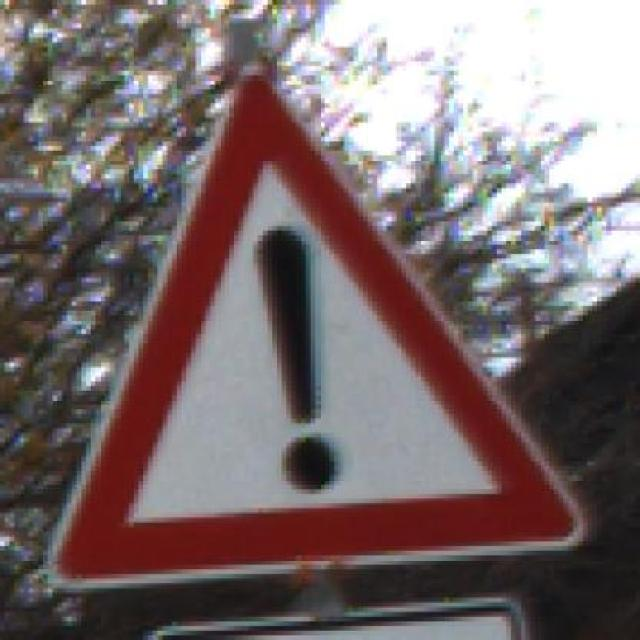Attention Please-: (34, 61, 592, 588)
